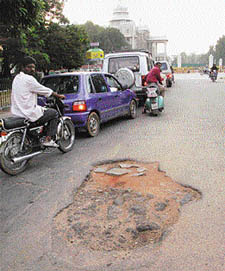pothole: (57, 150, 201, 260)
